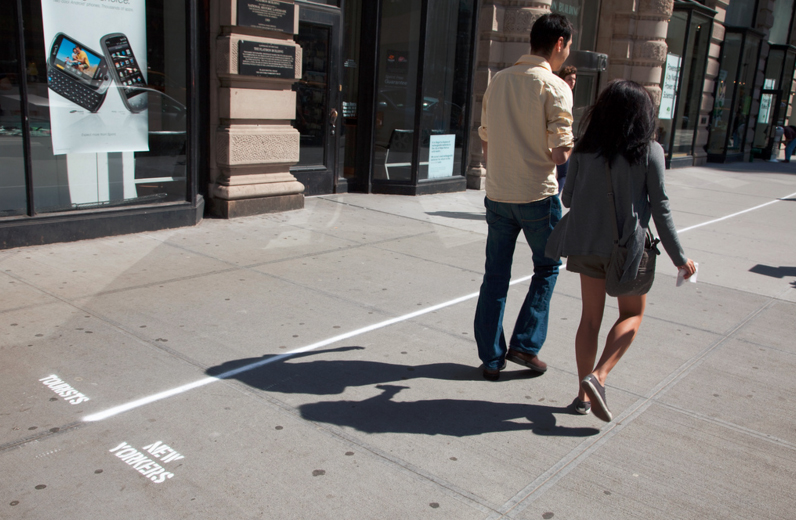pedestrian: (552, 75, 702, 427), (457, 11, 574, 384)
